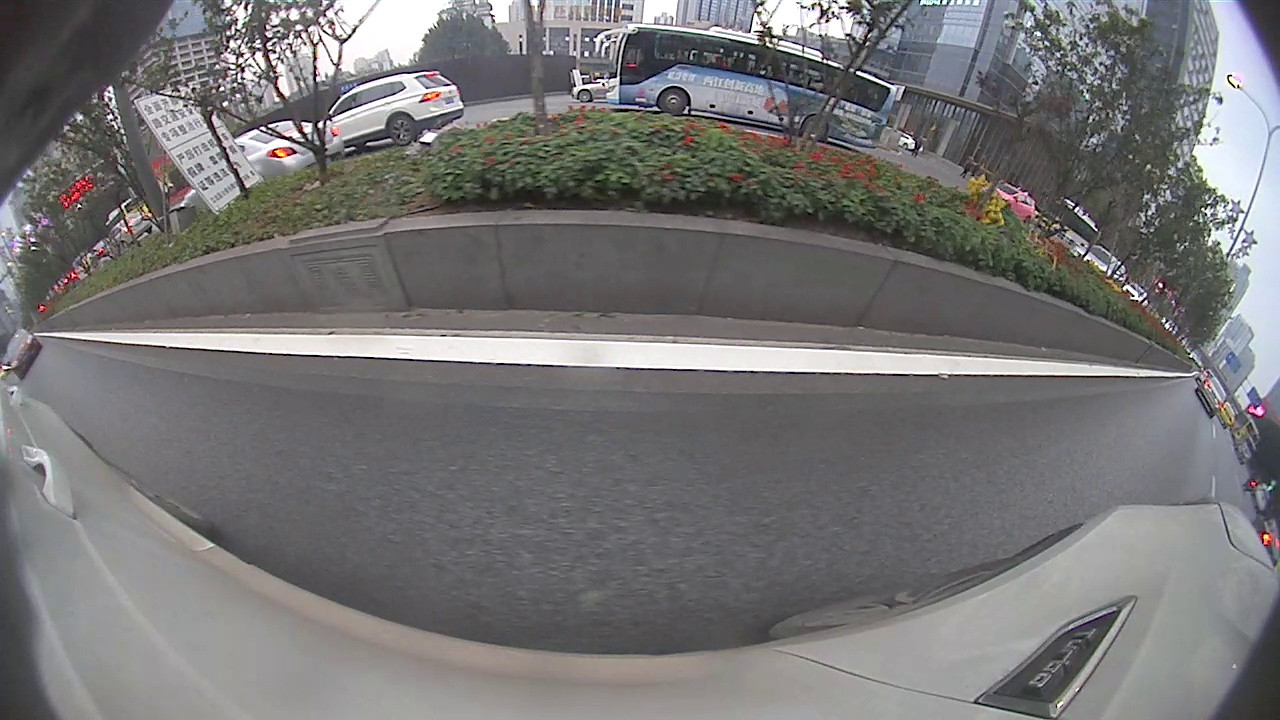bus: (603, 23, 901, 153)
car: (3, 322, 43, 382), (1195, 374, 1227, 420)
front: (657, 87, 689, 118), (578, 88, 592, 104)
rear: (387, 114, 419, 148), (801, 114, 828, 143)
